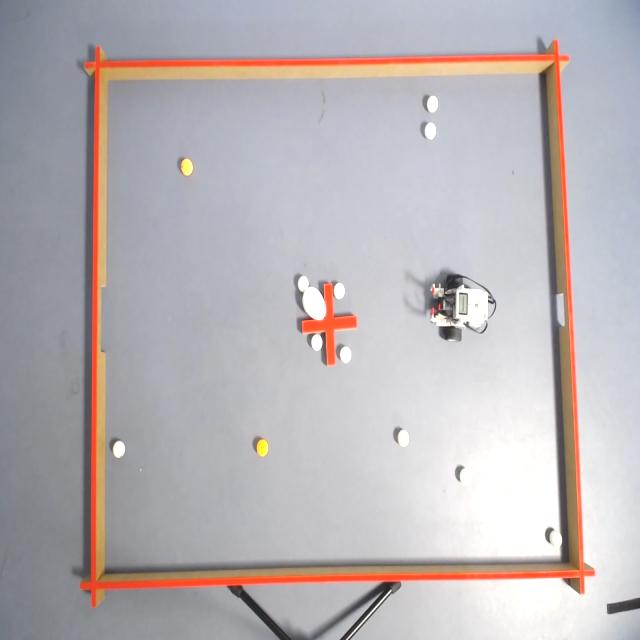boundaries: (542, 32, 596, 596), (75, 558, 598, 612), (82, 38, 570, 87), (77, 44, 111, 614)
cross: (300, 281, 358, 366)
egg: (302, 280, 326, 320)
large_goal: (80, 259, 116, 372)
orange_ball: (178, 152, 195, 178), (254, 437, 269, 458)
robot: (430, 271, 498, 341)
small_goal: (544, 272, 580, 345)
white_ball: (548, 527, 564, 551), (457, 466, 473, 490), (395, 425, 410, 450), (338, 344, 353, 365), (113, 438, 127, 459), (310, 332, 323, 354), (295, 278, 308, 298), (426, 93, 438, 113), (334, 280, 346, 300), (424, 122, 436, 140)
